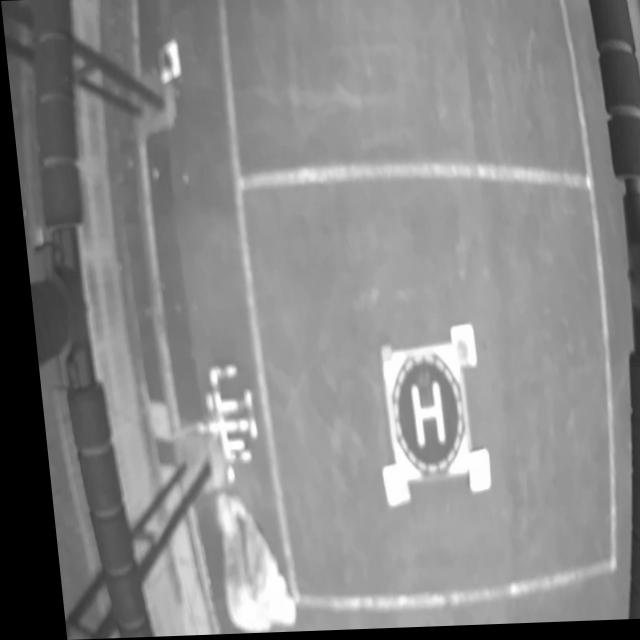Helipad: (400, 384, 435, 450)
